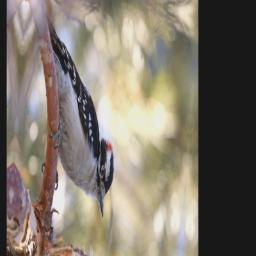Woodpecker: (32, 18, 123, 221)
